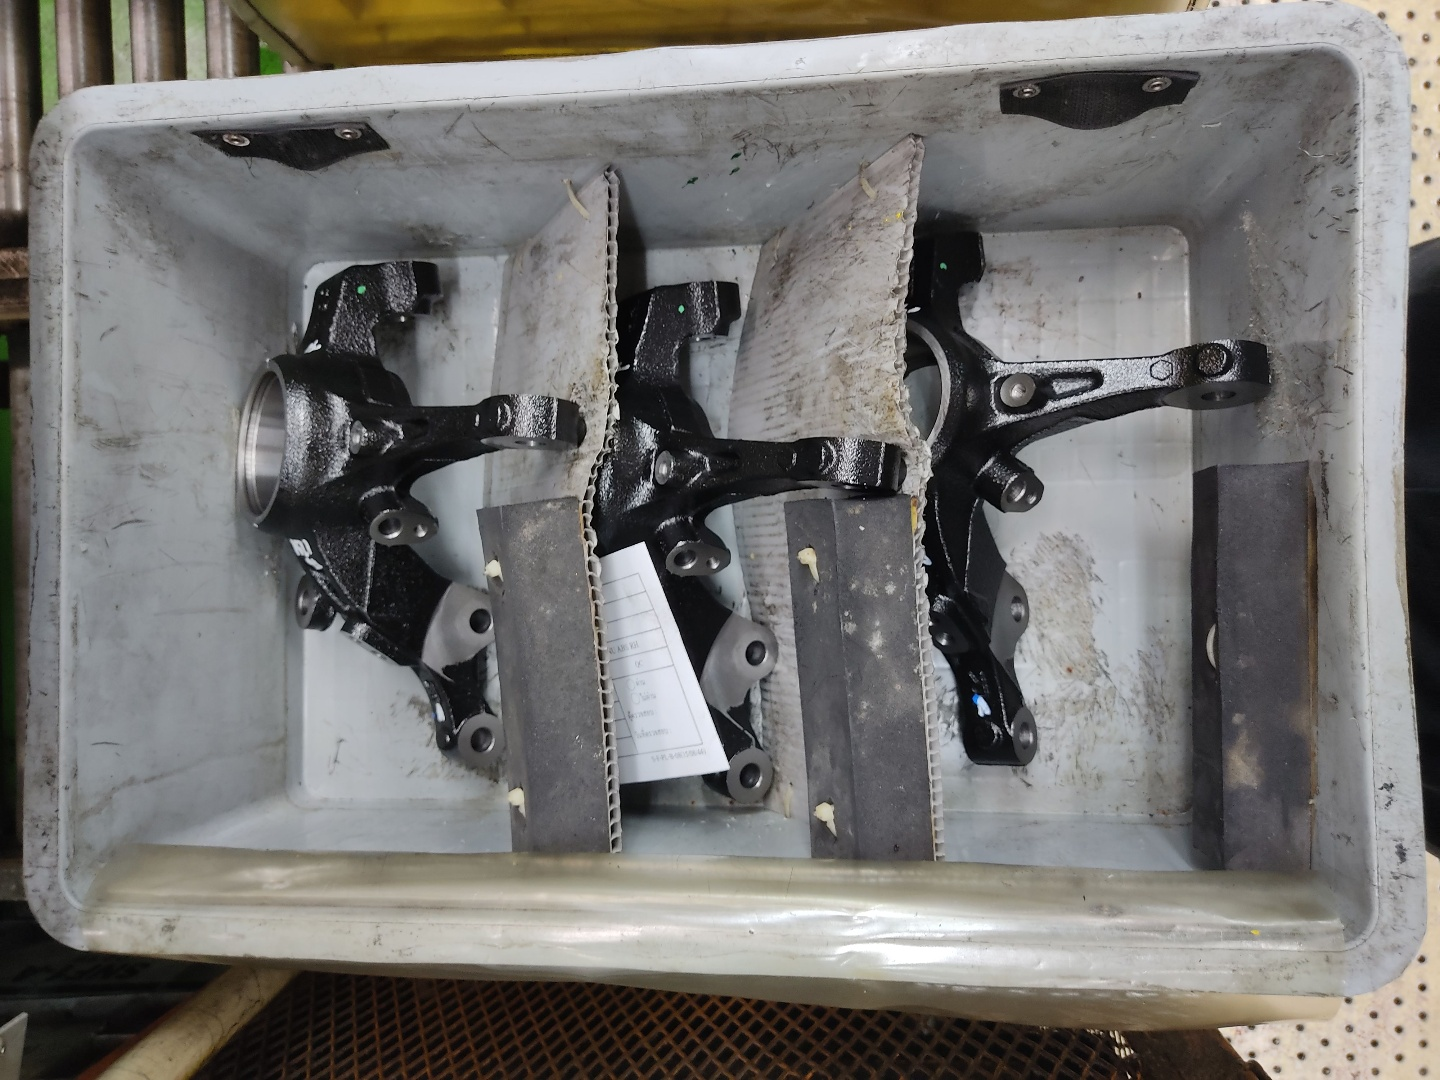abs-rh: (904, 206, 1281, 774), (232, 248, 587, 786), (605, 273, 910, 809)
